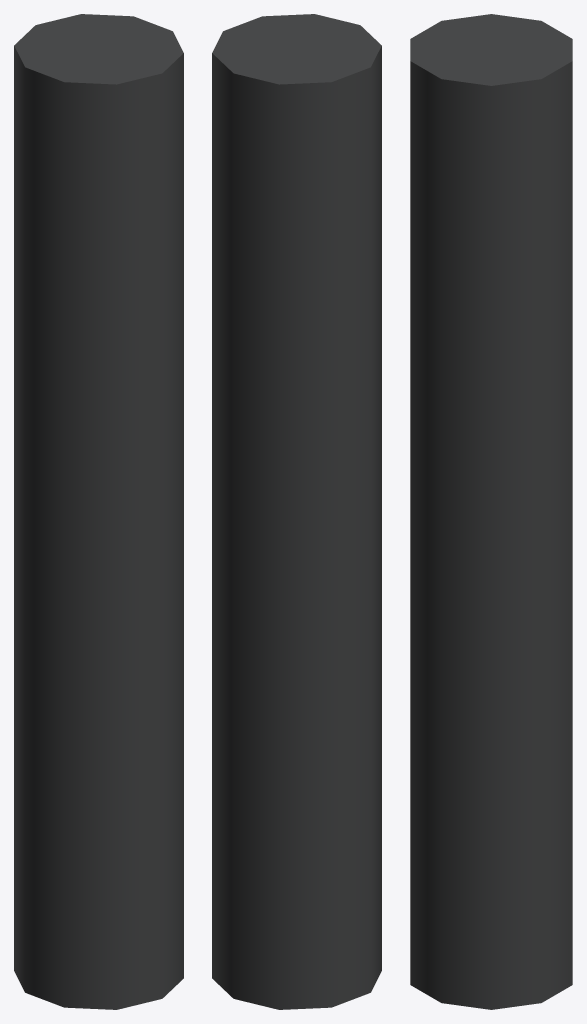
The model's file is SM_pylon_01.fbx.
The picture shows the model from 3 angles, left to right: view 1: azimuth 30°, elevation 25°; view 2: azimuth 150°, elevation 25°; view 3: azimuth 270°, elevation 25°; orthographic projection.
Visible parts, largest first — view 1: Cylinder035; view 2: Cylinder035; view 3: Cylinder035.
Boxes of the visible parts, x1,y1,x2,y2 form: Cylinder035: [14, 14, 183, 1009]; Cylinder035: [212, 14, 381, 1009]; Cylinder035: [410, 14, 572, 1009].
Bounding box in the file's own units: 6.25 × 5.94 × 37.4.
